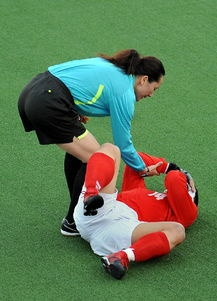falling: (77, 136, 202, 282)
